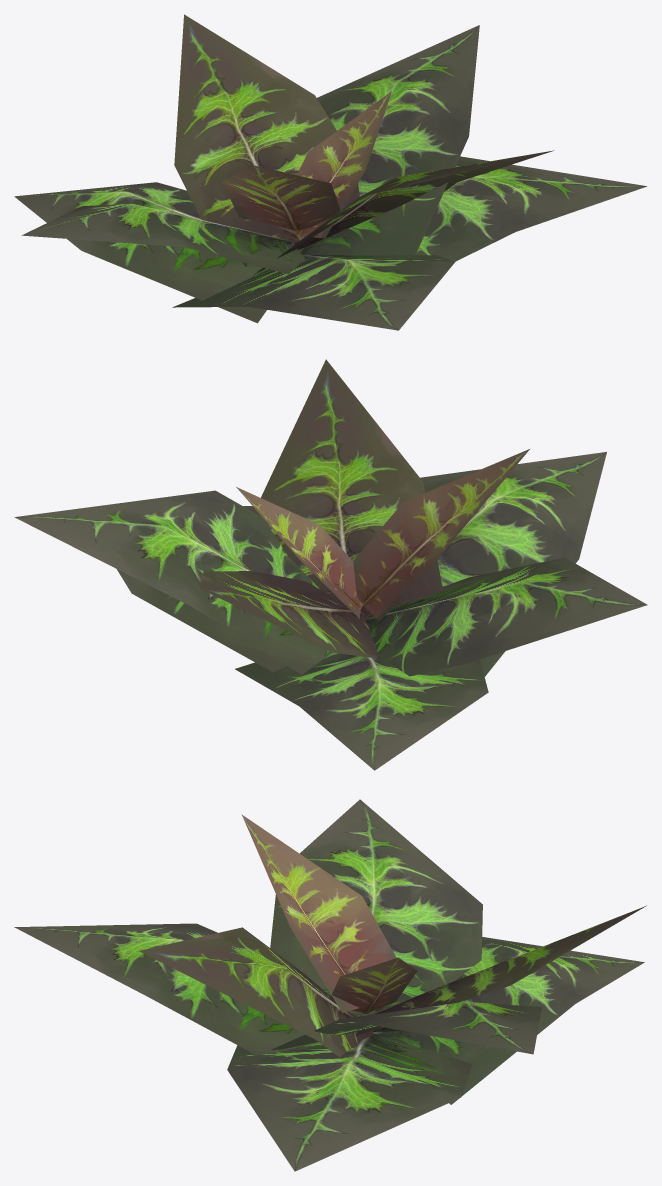
File: plant_01_m.FBX
3 renders of one model, top to bottom at view 1: azimuth 30°, elevation 25°; view 2: azimuth 150°, elevation 25°; view 3: azimuth 270°, elevation 25°, orthographic. The views are drawn at different scales.
Visible parts, largest first — view 1: plant_01; view 2: plant_01; view 3: plant_01.
Boxes of the visible parts, x1,y1,x2,y2 form: plant_01: (14, 14, 646, 330); plant_01: (14, 359, 647, 770); plant_01: (14, 799, 646, 1171).
Size of the model in its own units: 92.17 by 28.44 by 82.87.
